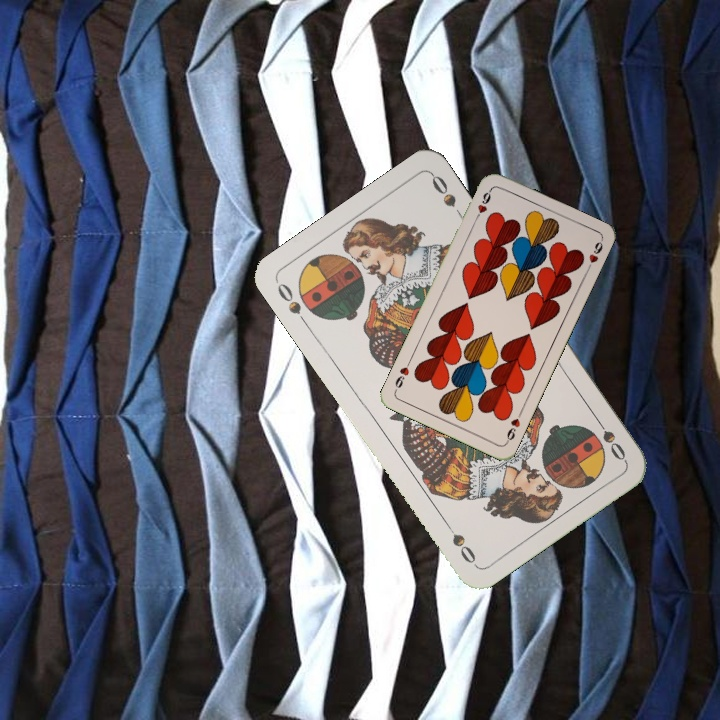H9: (471, 185, 495, 223), (502, 408, 525, 446)
SO: (589, 411, 628, 464), (273, 278, 311, 330)
